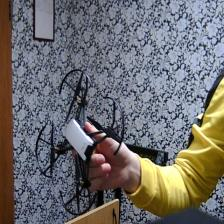drone: (34, 65, 127, 216)
